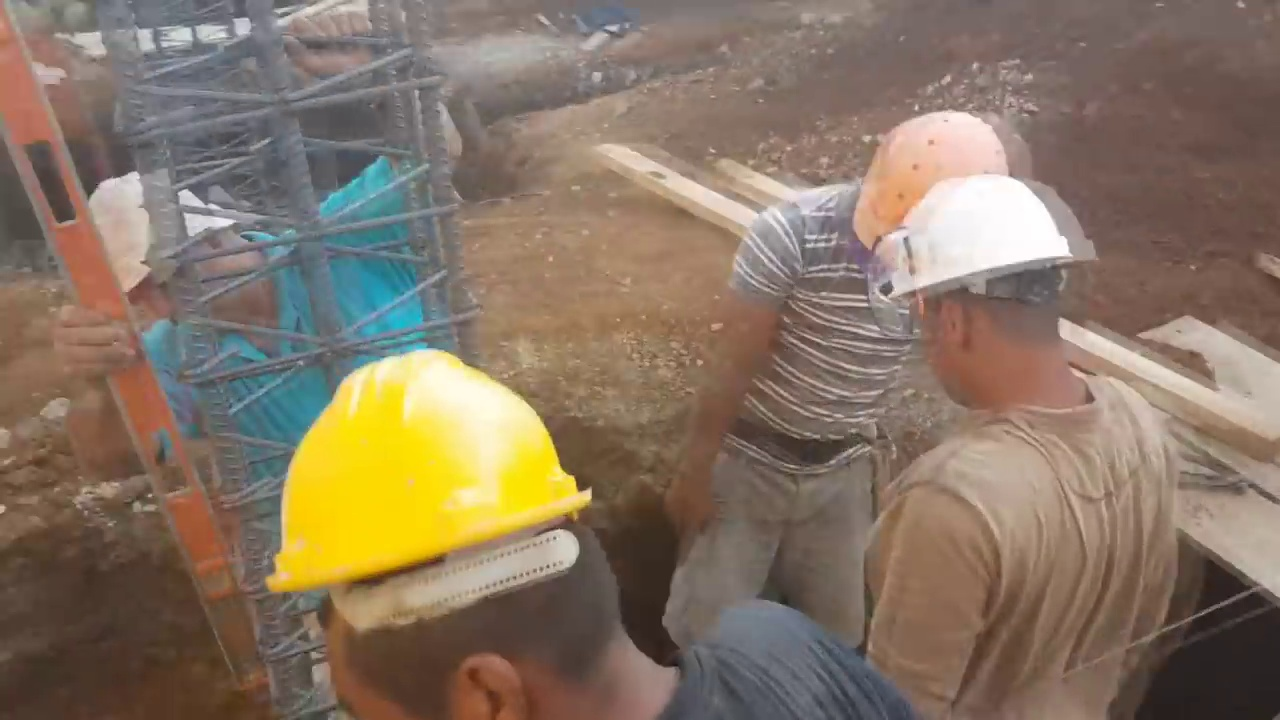helmet: (272, 352, 584, 604), (876, 173, 1082, 305), (73, 156, 236, 303), (856, 115, 1026, 239)
helmet-on: (270, 338, 672, 716), (882, 174, 1104, 435), (72, 165, 289, 340), (832, 103, 1026, 268)
person: (42, 3, 466, 687), (268, 332, 901, 716), (667, 112, 1021, 669), (868, 171, 1184, 720)
